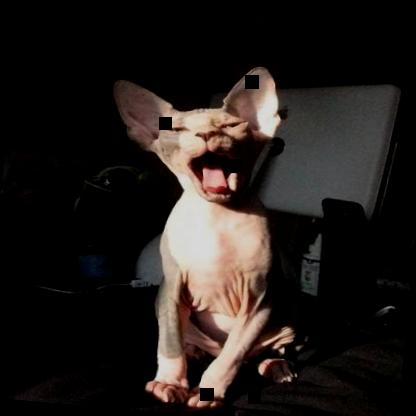cat: (84, 53, 334, 415)
